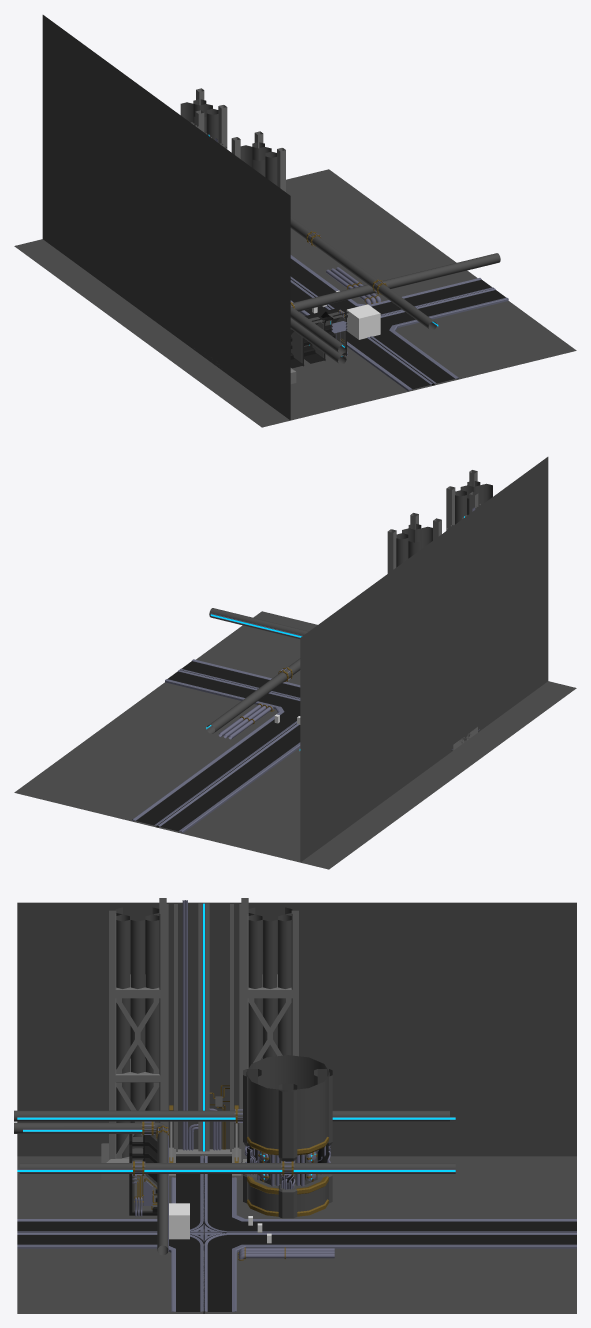
The model's file is M-BBF2.fbx.
3 views of the same model, one above another, from view 1: azimuth 30°, elevation 25°; view 2: azimuth 150°, elevation 25°; view 3: azimuth 270°, elevation 25° (orthographic). The views are drawn at different scales.
Parts seen in each view (by area): view 1: 10月頭に完成, 立方体.001, ベジエカーブ.015, ベジエカーブ.005, 立方体.002, 立方体.025; view 2: 10月頭に完成, 立方体.001, ベジエカーブ.015, ベジエカーブ.005, 立方体.002, ベジエカーブ.061; view 3: 10月頭に完成, 立方体.001, ベジエカーブ.005, 立方体.002, ベジエカーブ.015, ベジエカーブ.004, 立方体.021, 立方体.009, ベジエカーブ.006, ベジエカーブ.031, ベジエカーブ.050, ベジエカーブ.013 (+7 smaller).
Part boxes in pixels (<box>): 10月頭に完成: <box>14,15,576,427</box>; 立方体.001: <box>194,255,508,391</box>; ベジエカーブ.015: <box>290,216,500,364</box>; ベジエカーブ.005: <box>180,99,277,185</box>; 立方体.002: <box>195,88,296,383</box>; 立方体.025: <box>346,304,380,339</box>; 10月頭に完成: <box>14,457,576,869</box>; 立方体.001: <box>132,659,479,833</box>; ベジエカーブ.015: <box>207,608,308,733</box>; ベジエカーブ.005: <box>396,481,492,567</box>; 立方体.002: <box>387,470,478,573</box>; ベジエカーブ.061: <box>218,704,271,739</box>; 10月頭に完成: <box>17,902,576,1313</box>; 立方体.001: <box>17,1155,576,1313</box>; ベジエカーブ.005: <box>115,907,292,1157</box>; 立方体.002: <box>101,898,298,1179</box>; ベジエカーブ.015: <box>14,1110,455,1255</box>; ベジエカーブ.004: <box>246,1055,329,1211</box>; 立方体.021: <box>166,903,241,1151</box>; 立方体.009: <box>278,1083,297,1218</box>; ベジエカーブ.006: <box>182,900,221,1150</box>; ベジエカーブ.031: <box>17,1169,455,1172</box>; ベジエカーブ.050: <box>17,1117,455,1120</box>; ベジエカーブ.013: <box>247,1136,328,1216</box>.
Size of the model in its own units: 4400 by 3100 by 6038.
